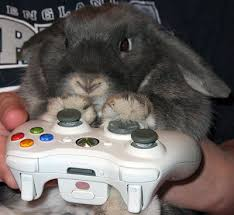bunny: (11, 4, 234, 149)
